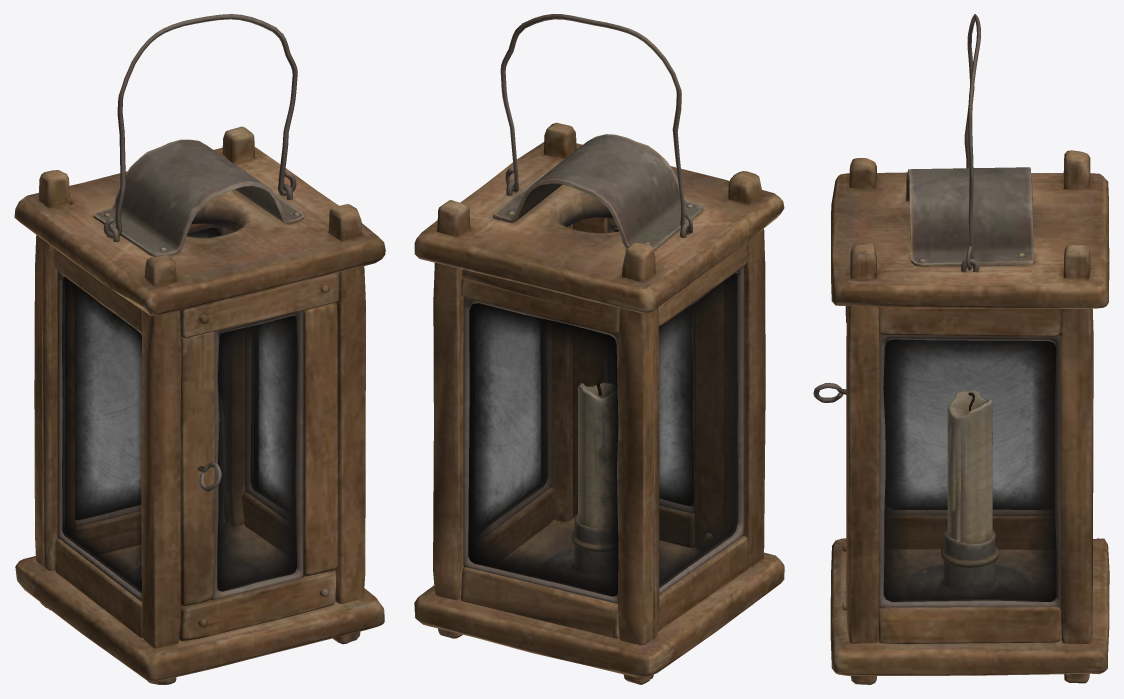
The model's file is wooden_lantern_01.glb.
3 views of the same model, side by side, from view 1: azimuth 30°, elevation 25°; view 2: azimuth 150°, elevation 25°; view 3: azimuth 270°, elevation 25° (orthographic).
Visible parts, largest first — view 1: wooden_lantern_01, wooden_lantern_01_door, wooden_lantern_01_handle; view 2: wooden_lantern_01, wooden_lantern_01_door, wooden_lantern_01_handle; view 3: wooden_lantern_01, wooden_lantern_01_handle, wooden_lantern_01_door.
Boxes of the visible parts, x1,y1,x2,y2 form: wooden_lantern_01: [14, 126, 385, 684]; wooden_lantern_01_door: [179, 272, 339, 641]; wooden_lantern_01_handle: [103, 14, 297, 238]; wooden_lantern_01: [414, 122, 784, 684]; wooden_lantern_01_door: [573, 217, 724, 549]; wooden_lantern_01_handle: [500, 14, 692, 234]; wooden_lantern_01: [830, 150, 1109, 684]; wooden_lantern_01_handle: [964, 14, 980, 270]; wooden_lantern_01_door: [813, 306, 847, 610].
Bounding box in the file's own units: 0.221 × 0.5301 × 0.2347.
Materials: 2 (2 with a texture image).
